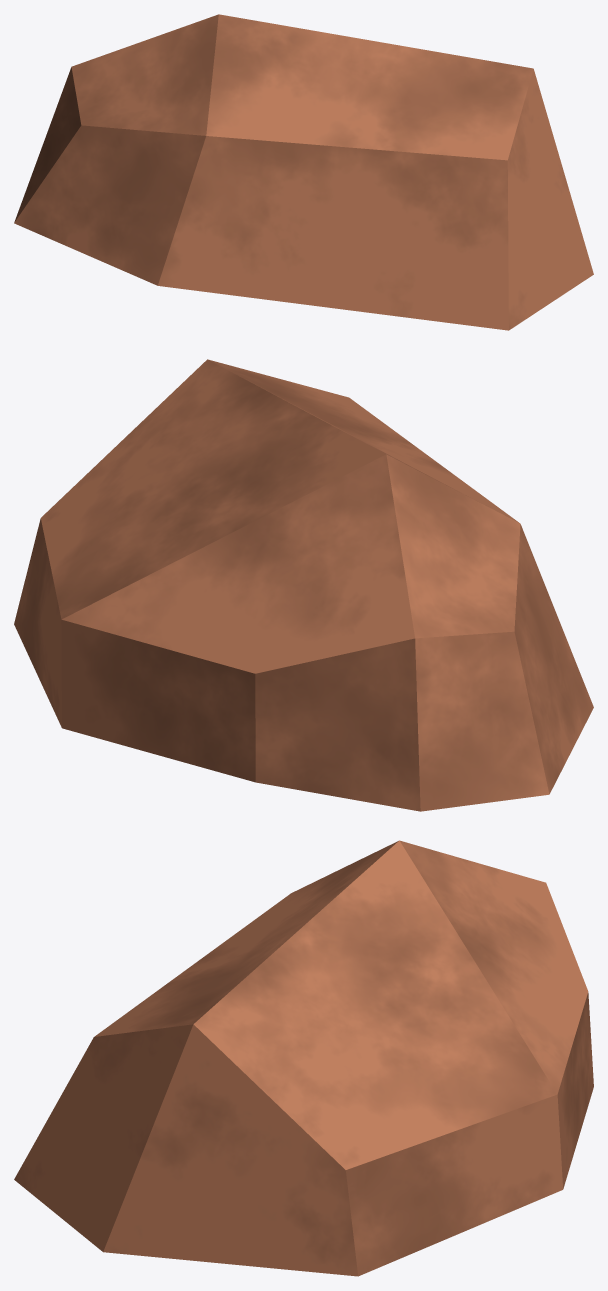
Rendered from Copper Ore.fbx.
3 views of the same model, one above another, from view 1: azimuth 30°, elevation 25°; view 2: azimuth 150°, elevation 25°; view 3: azimuth 270°, elevation 25° (orthographic). The views are drawn at different scales.
Parts seen in each view (by area): view 1: rock1; view 2: rock1; view 3: rock1.
Part boxes in pixels (bbox=[...]): rock1: bbox=[14, 14, 593, 330]; rock1: bbox=[14, 359, 593, 811]; rock1: bbox=[14, 840, 593, 1276].
Bounding box in the file's own units: 779 × 359 × 702.
